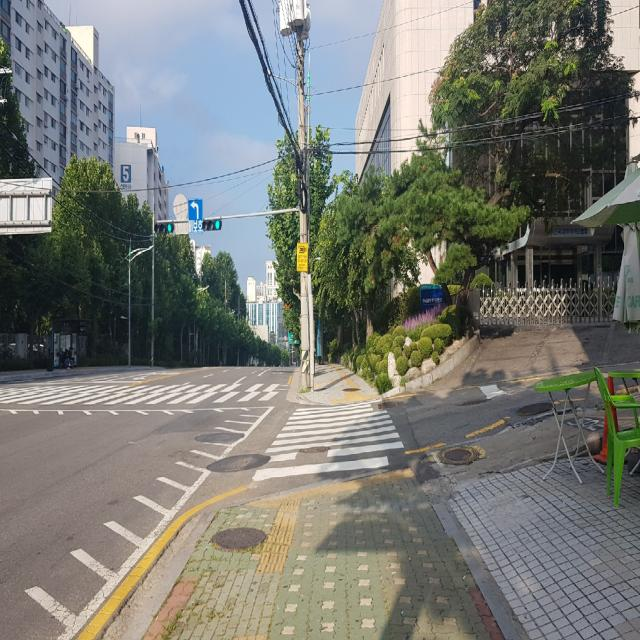횡단보도: (252, 398, 404, 482), (1, 382, 283, 407)
